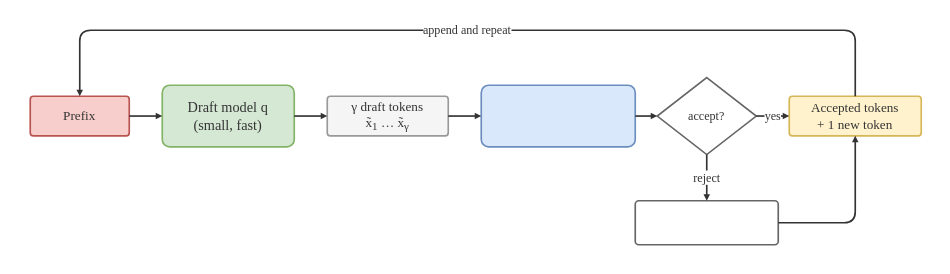
This 950x274 diagram has some shape labels left out. Each missing label, with the centre of its shape:
"Resample from norm(max(0, p − q))" goes at (x=706, y=222).
"Target model p (one parallel pass)" goes at (x=558, y=115).
